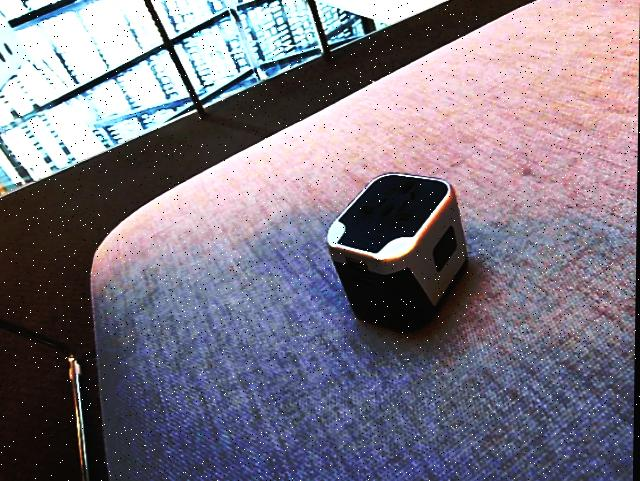adapter: (326, 171, 470, 333)
